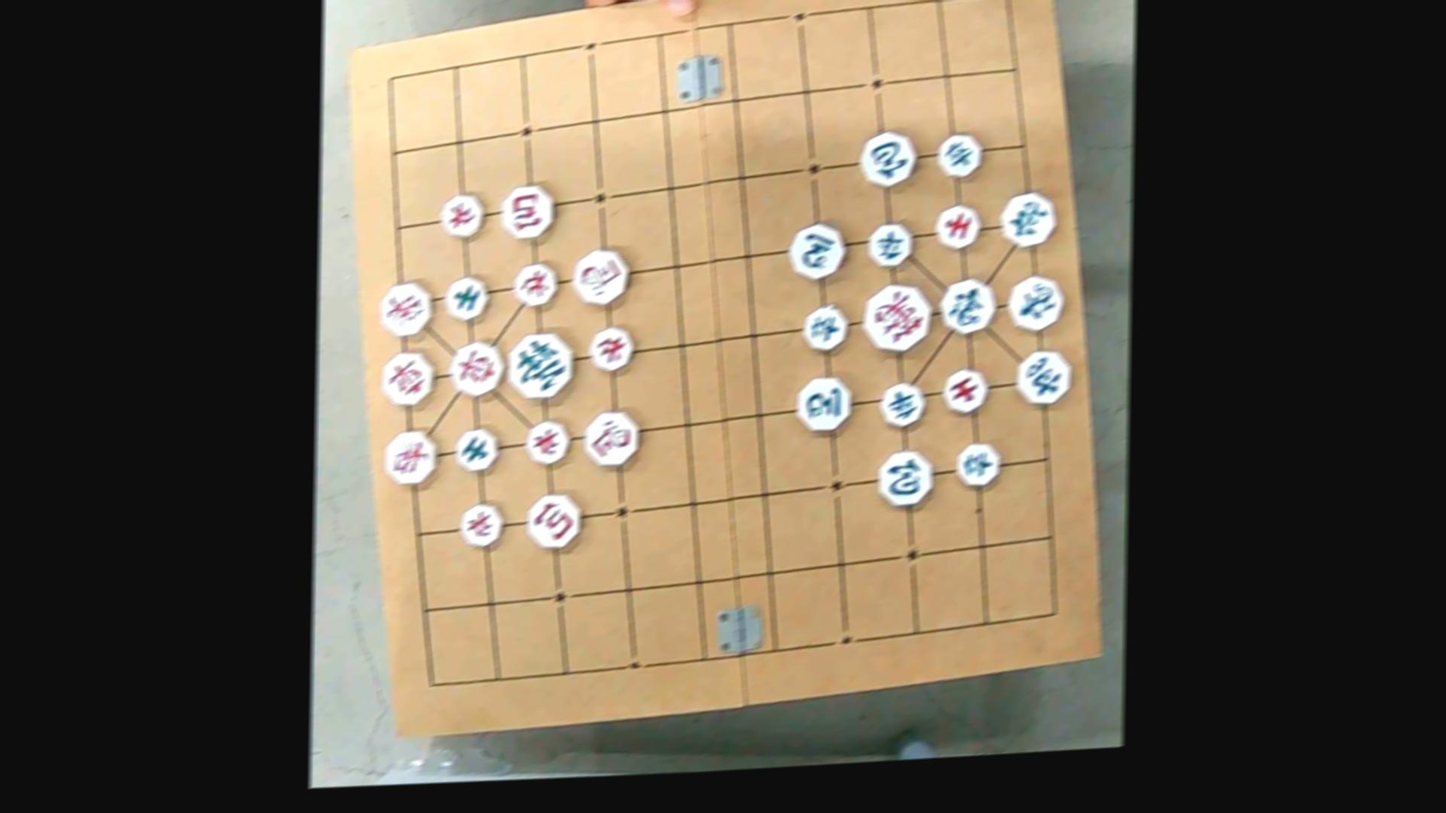cha_green: (1002, 189, 1054, 248), (1018, 348, 1070, 407)
cha_red: (450, 340, 502, 402), (383, 348, 434, 409)
jol_green: (869, 222, 912, 273), (937, 129, 980, 180), (803, 303, 845, 355), (956, 442, 998, 491), (880, 381, 925, 426)
jol_red: (527, 419, 570, 469), (590, 322, 632, 373), (514, 261, 555, 312), (462, 498, 502, 550), (443, 190, 484, 240)
ma_green: (798, 375, 850, 436), (792, 225, 842, 285)
ma_red: (575, 247, 627, 309), (584, 410, 636, 471)
po_green: (863, 129, 916, 189), (880, 450, 932, 510)
po_red: (503, 183, 554, 245), (529, 490, 580, 551)
sa_green: (456, 427, 497, 476), (446, 273, 487, 321)
sa_red: (941, 366, 990, 415), (936, 201, 979, 251)
sang_green: (1010, 273, 1063, 333), (941, 275, 993, 335)
sang_red: (382, 280, 432, 341), (388, 426, 436, 486)
wang_green: (511, 330, 573, 403)
wang_red: (866, 282, 928, 358)
